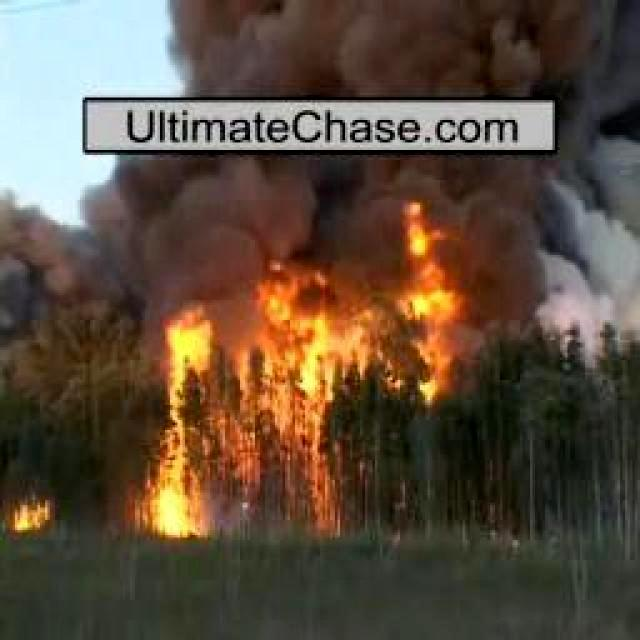fire: (140, 282, 348, 526), (393, 192, 475, 398), (2, 503, 72, 535)
